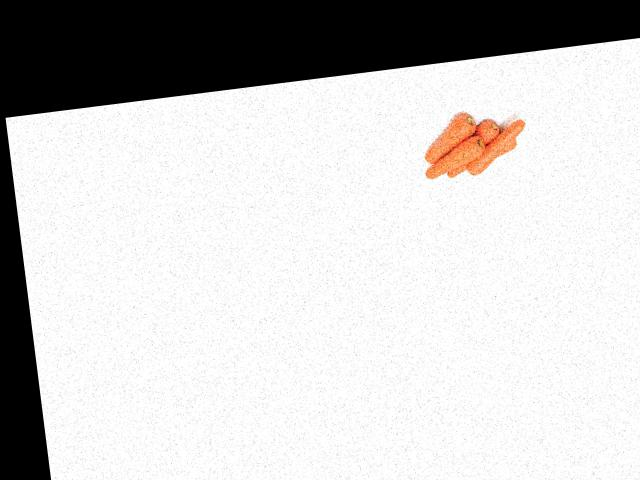carrot: (416, 103, 488, 165)
